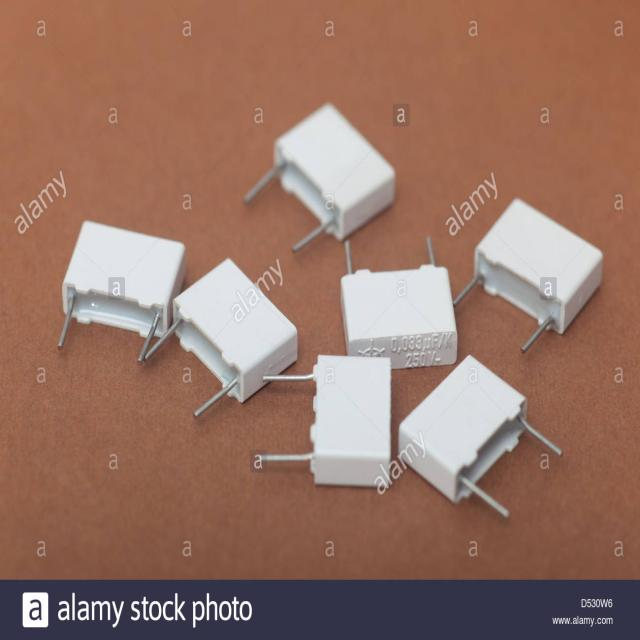capacitor: (399, 353, 562, 517), (145, 258, 298, 418), (453, 198, 602, 354), (246, 102, 394, 252), (56, 220, 185, 364), (258, 353, 392, 486), (342, 236, 456, 367)
